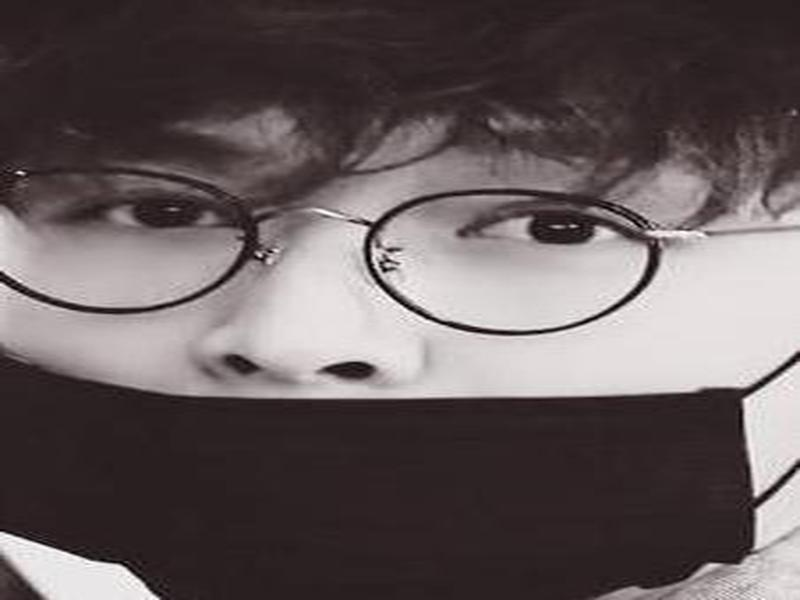with_mask: (1, 8, 798, 600)
